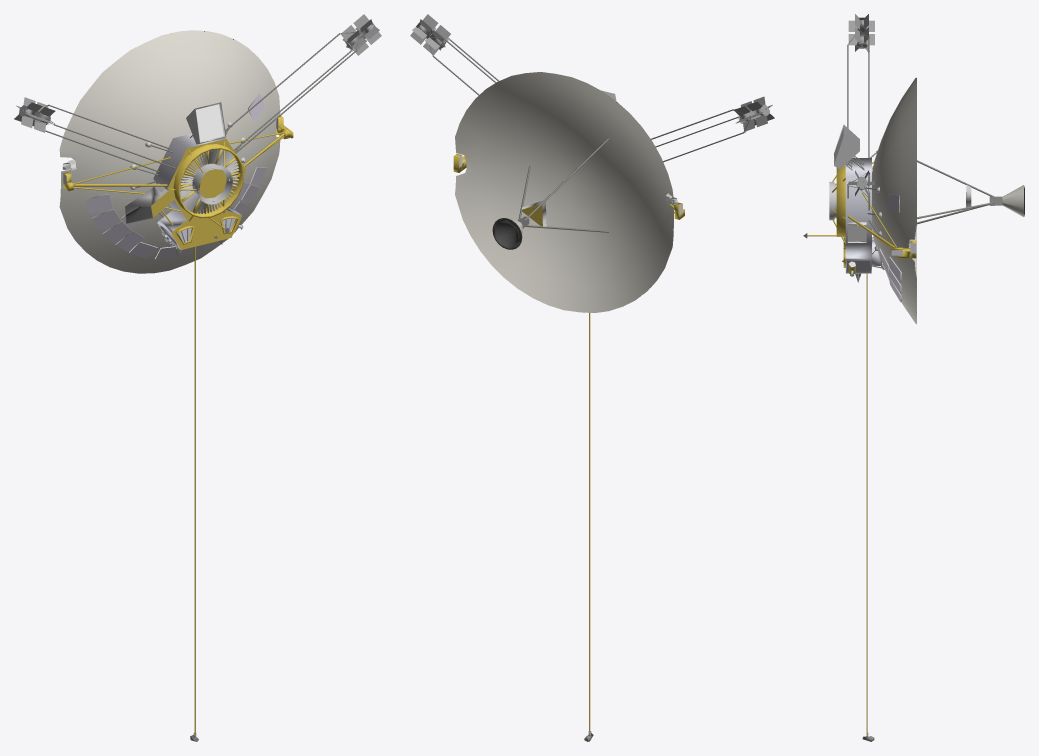
Rendered from pioneer-craft.glb.
3 renders of one model, left to right at view 1: azimuth 30°, elevation 25°; view 2: azimuth 150°, elevation 25°; view 3: azimuth 270°, elevation 25°, orthographic. The views are drawn at different scales.
Visible parts, largest first — view 1: craft; view 2: craft; view 3: craft.
Part boxes in pixels (<box>): craft: <box>14,14,381,741</box>; craft: <box>410,14,774,741</box>; craft: <box>803,14,1024,741</box>.
Size of the model in its own units: 4.52 by 8.25 by 2.54.
1 material, 1 textured.
